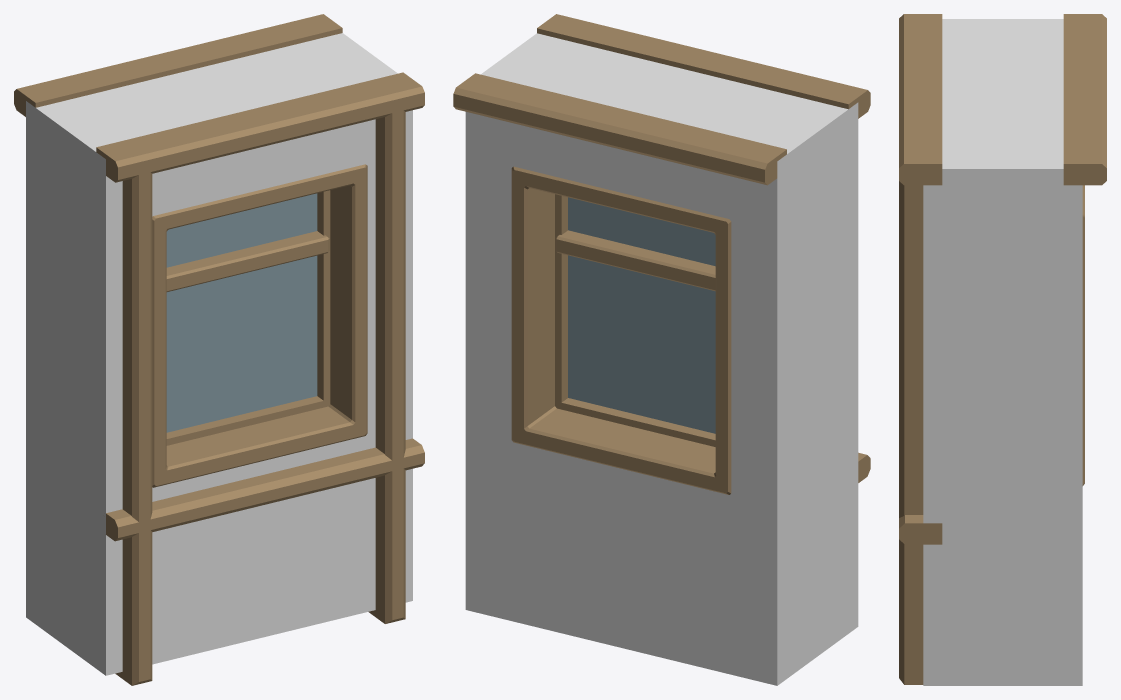
Rendered from wall_window_01.fbx.
The picture shows the model from 3 angles, left to right: view 1: azimuth 30°, elevation 25°; view 2: azimuth 150°, elevation 25°; view 3: azimuth 270°, elevation 25°; orthographic projection.
Visible parts, largest first — view 1: polySurface62, pCube607, polySurface63; view 2: polySurface62, pCube607, polySurface63; view 3: polySurface62, pCube607.
Part boxes in pixels (bbox=[...]): polySurface62: bbox=[26, 33, 412, 675]; pCube607: bbox=[14, 14, 424, 685]; polySurface63: bbox=[166, 193, 317, 432]; polySurface62: bbox=[465, 33, 858, 685]; pCube607: bbox=[453, 14, 870, 494]; polySurface63: bbox=[568, 197, 715, 433]; polySurface62: bbox=[923, 19, 1082, 685]; pCube607: bbox=[899, 14, 1106, 684].
Bounding box in the file's own units: 10 × 16.46 × 5.86.
